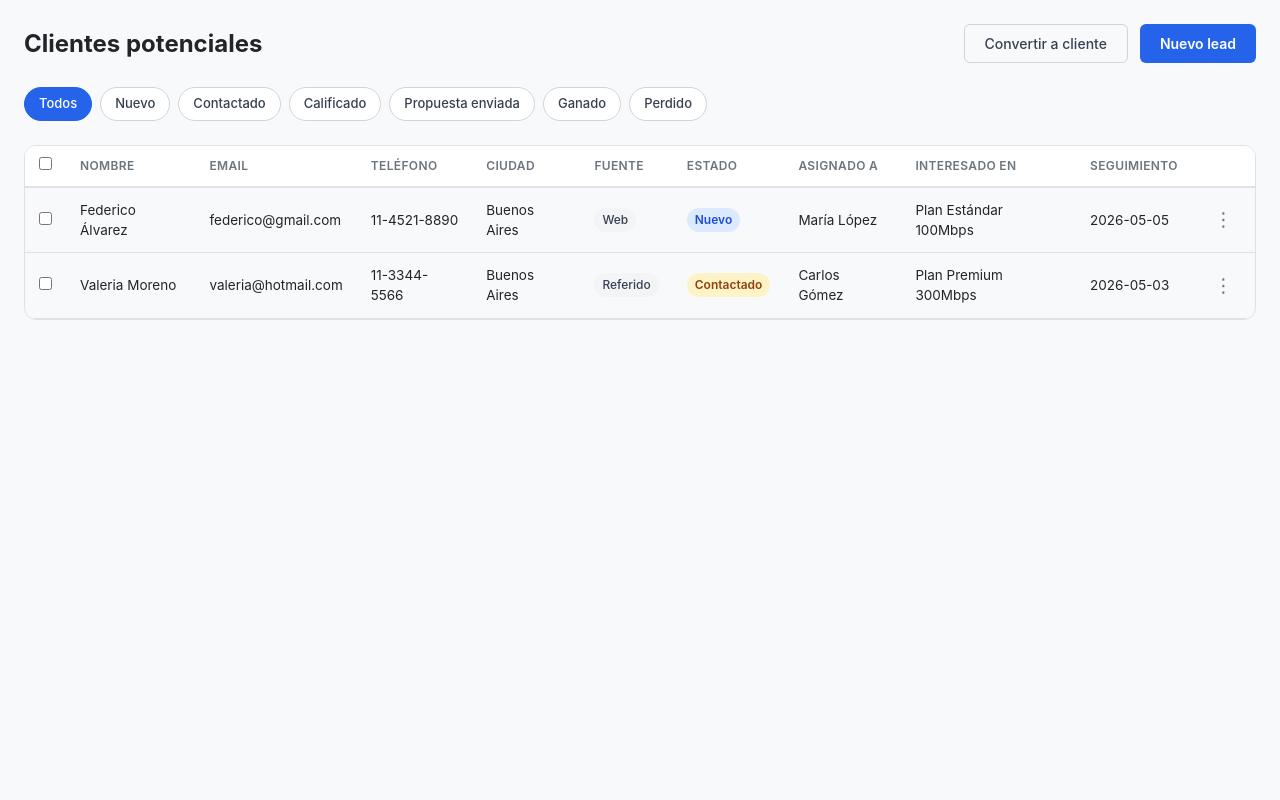
Test: LeadsPage › clicking "Nuevo lead" shows form
Click the button "Nuevo lead": [1198, 44] box [1140,24,1256,63]
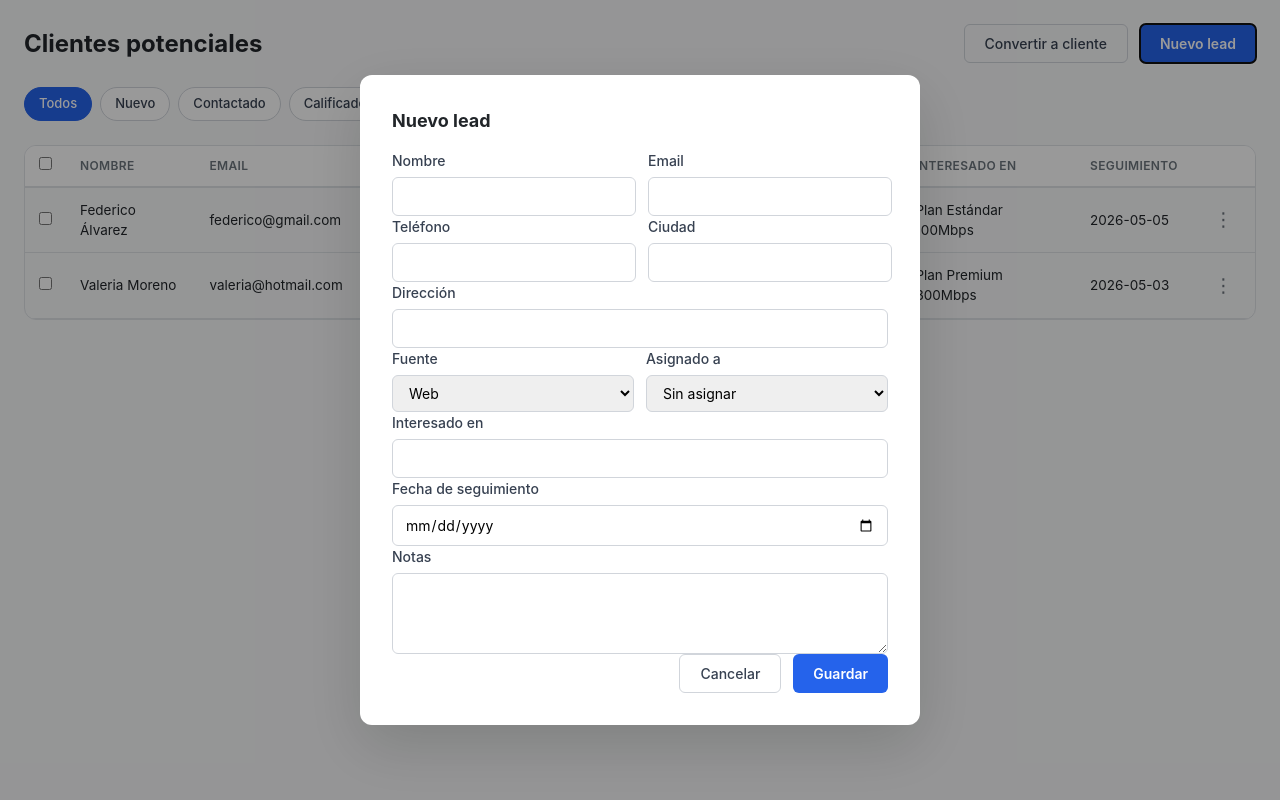
Result: the dialog is shown at [360,75,920,725]
Result: the field labelled "Nombre" is shown at [392,177,636,216]
